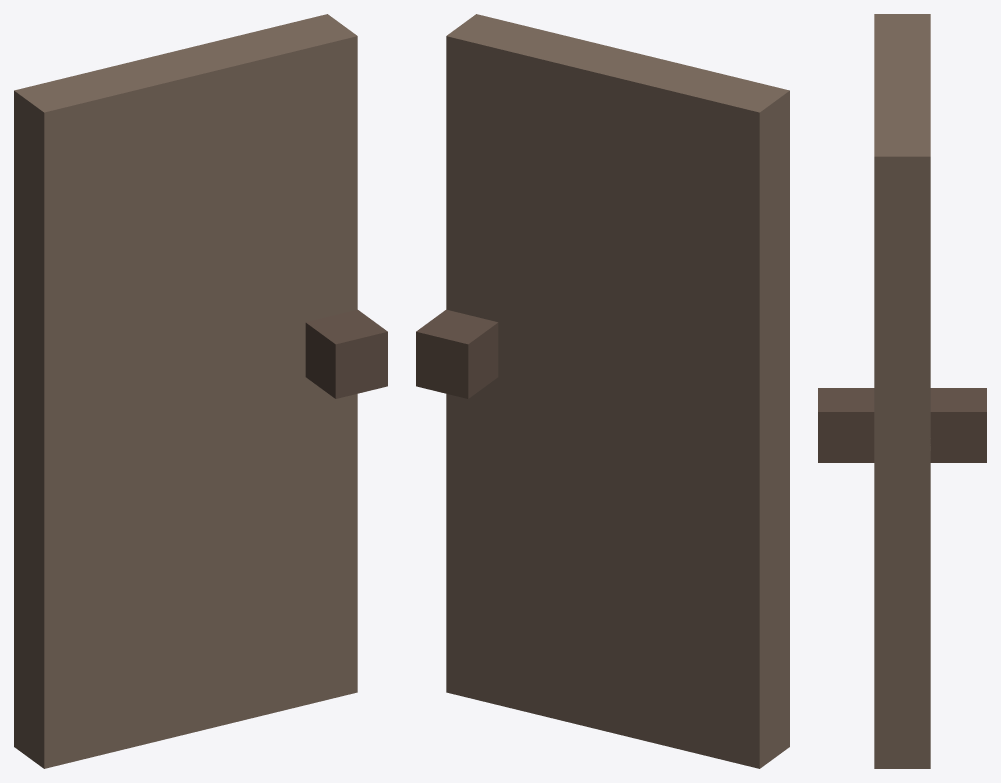
The model's file is door_01.fbx.
3 views of the same model, side by side, from view 1: azimuth 30°, elevation 25°; view 2: azimuth 150°, elevation 25°; view 3: azimuth 270°, elevation 25° (orthographic). The views are drawn at different scales.
Parts seen in each view (by area): view 1: door_01_0; view 2: door_01_0; view 3: door_01_0.
Part boxes in pixels (x1,y1,x2,y2): door_01_0: (14,14,387,768); door_01_0: (416,14,789,768); door_01_0: (818,14,986,768).
Size of the model in its own units: 600 by 300 by 1200.
